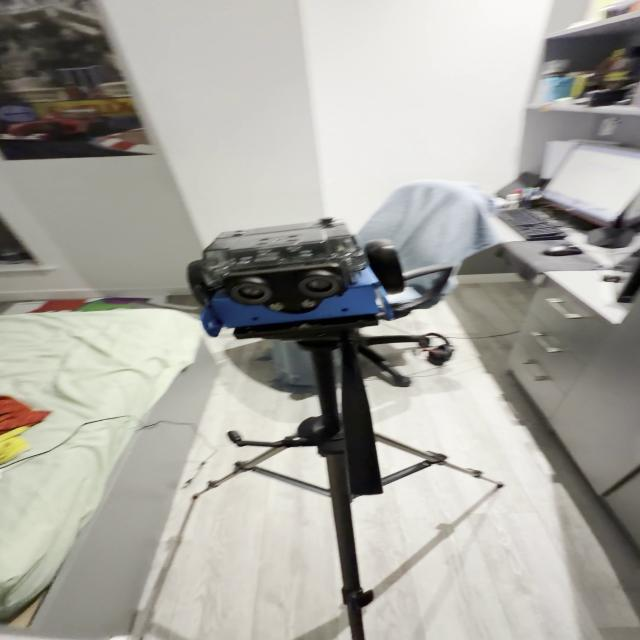mbot-detection: (181, 211, 416, 342)
